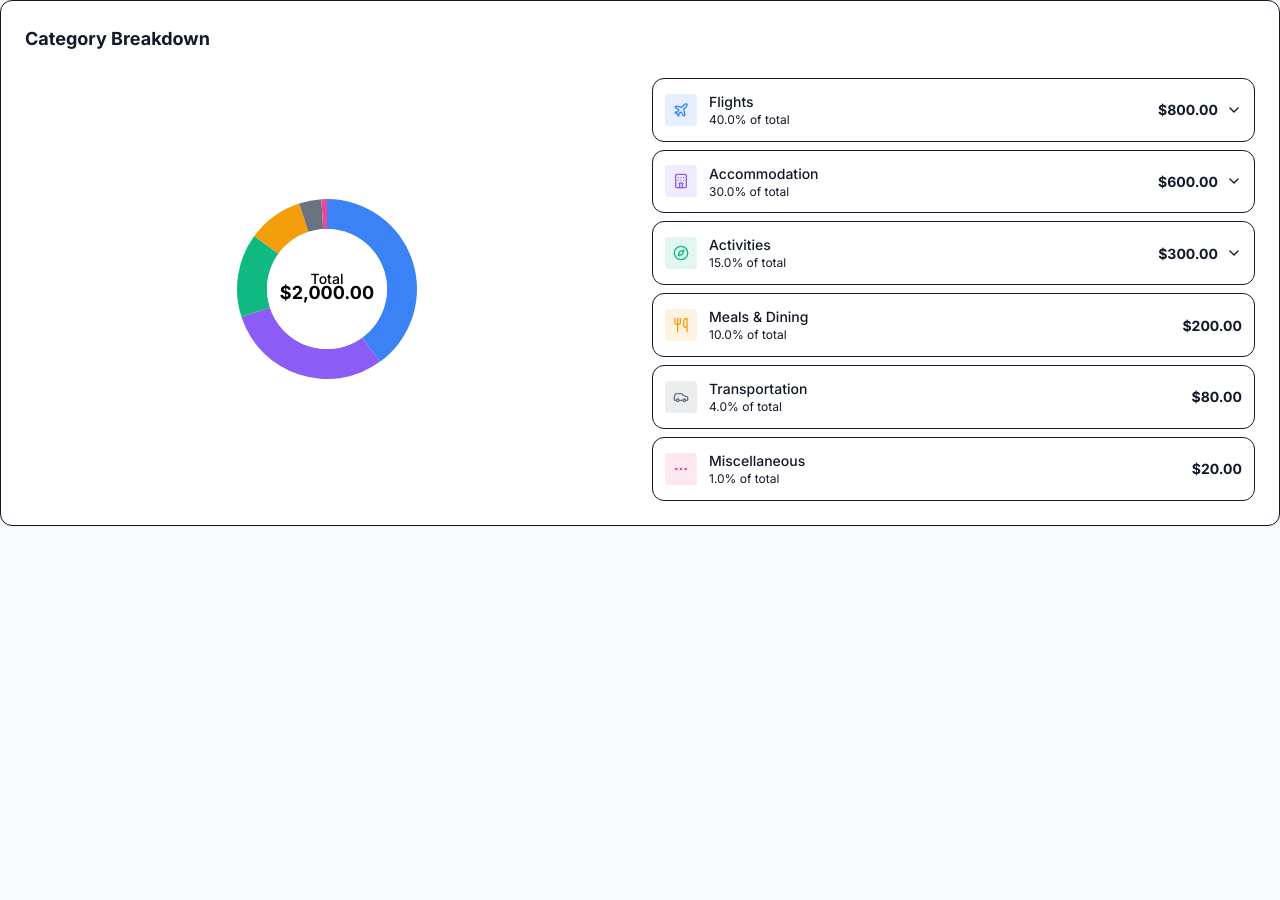
CategoryBreakdown › Category Expansion › displays itemized costs with correct formatting
Click the button "Activities 15.0% of total $300.00": (681, 253) [653,222,1254,284]
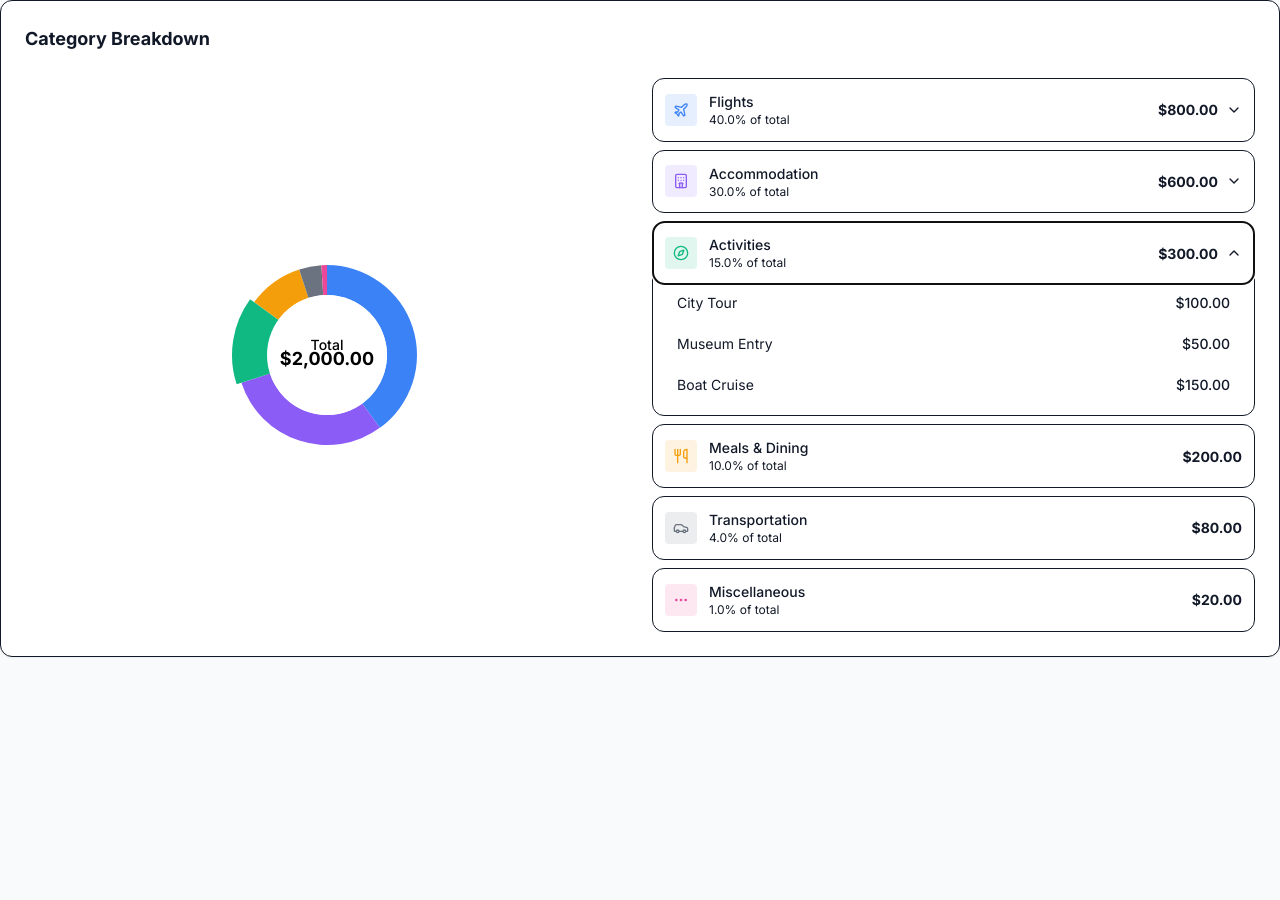
Now the text "City Tour" is shown, box [677,292,737,313]
Now the text "Museum Entry" is shown, box [677,333,773,354]
Now the text "Boat Cruise" is shown, box [677,374,754,395]
